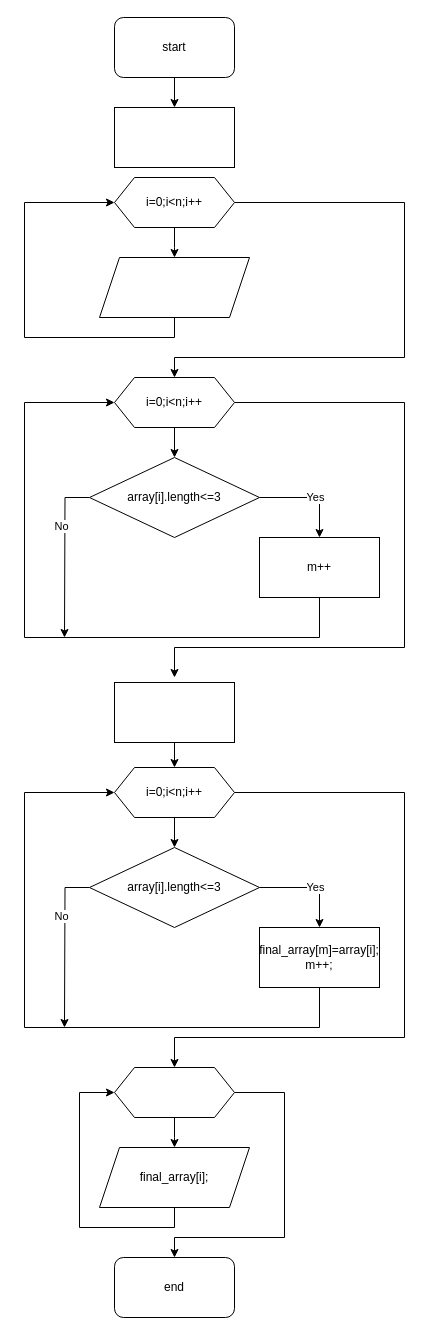
Image size: 430x1335. Some labels were removed from this diagram. Each missing label, with the box of its shape:
array[i];: (98, 256, 250, 318)
i=0;i<m;i++: (114, 1066, 234, 1118)
int n, m, i=0, j=0; string array[n];: (114, 106, 234, 168)
string final_array[m]; m=0;: (114, 682, 234, 742)
